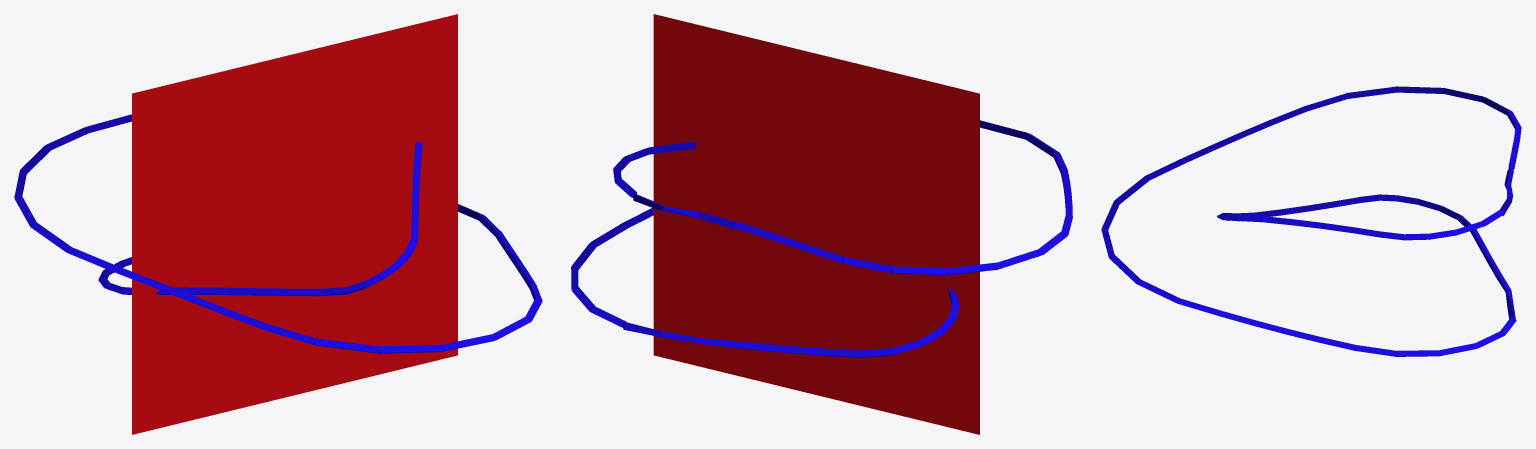
File: mobius.glb
3 renders of one model, left to right at view 1: azimuth 30°, elevation 25°; view 2: azimuth 150°, elevation 25°; view 3: azimuth 270°, elevation 25°, orthographic. The views are drawn at different scales.
Visible parts, largest first — view 1: dummy, strip; view 2: dummy, strip; view 3: strip.
Part boxes in pixels (x1=…): dummy: x1=132, y1=14, x2=457, y2=434; strip: x1=14, y1=114, x2=542, y2=353; dummy: x1=653, y1=14, x2=979, y2=434; strip: x1=571, y1=120, x2=1072, y2=357; strip: x1=1101, y1=86, x2=1521, y2=356.
Bounding box in the file's own units: 1.13 × 0.8115 × 1.08.
